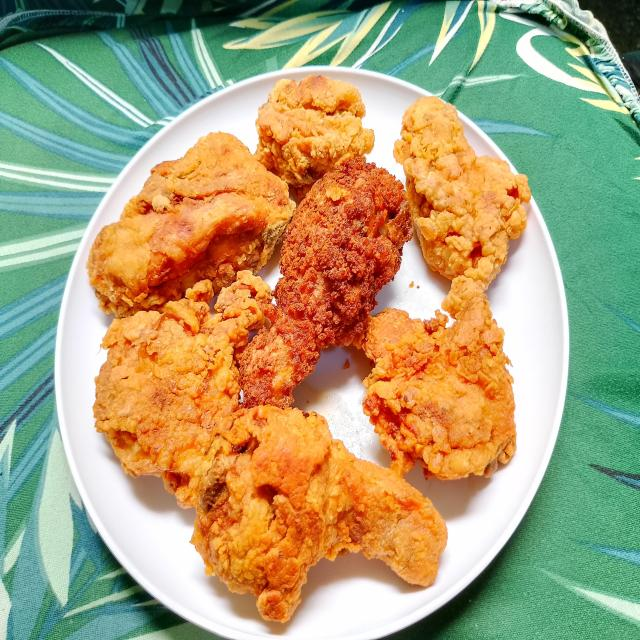Chicken -Fried Chicken-: (110, 97, 514, 610)
